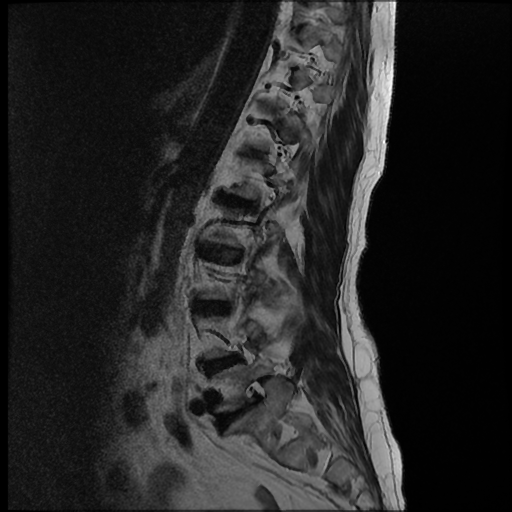LFS0: (238, 370, 279, 414)
